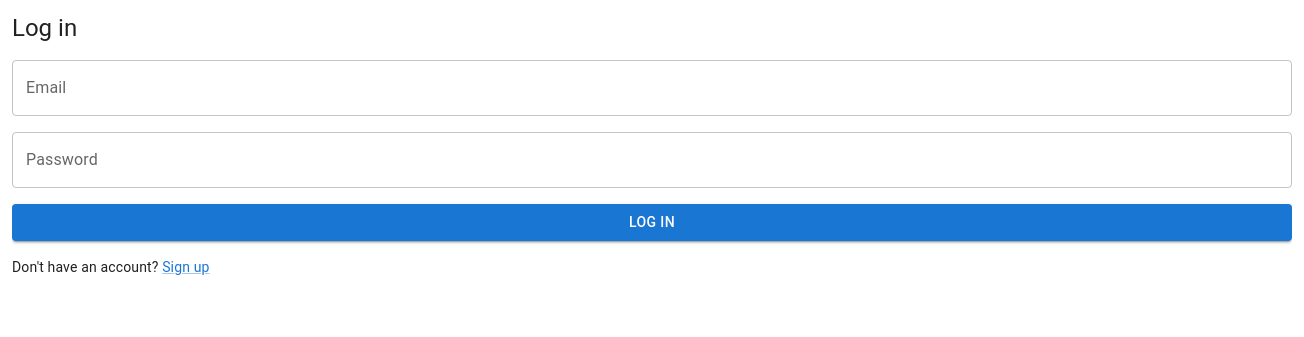
it: LoginForm › shows a validation error instead of submitting when the email is empty
Click the button "Log in": (652, 222) [12,204,1292,240]
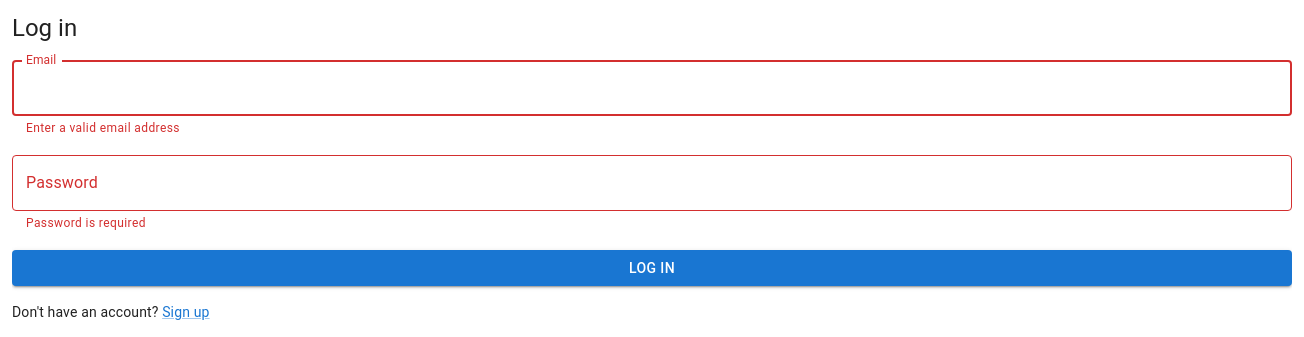
Check: the text "Enter a valid email address" is shown, box [26,121,180,135]
